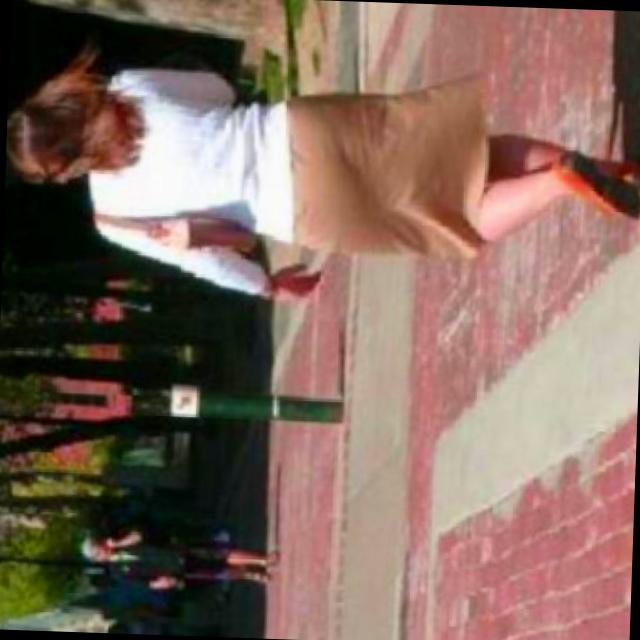Person: (2, 45, 640, 322), (74, 516, 295, 608)
